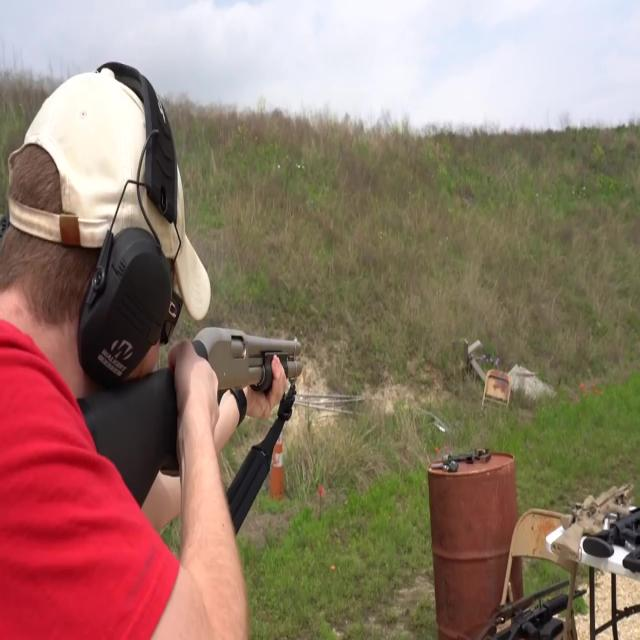Weapon: (43, 312, 292, 524), (549, 464, 640, 589), (444, 565, 630, 626), (421, 428, 525, 496), (624, 633, 625, 637)
